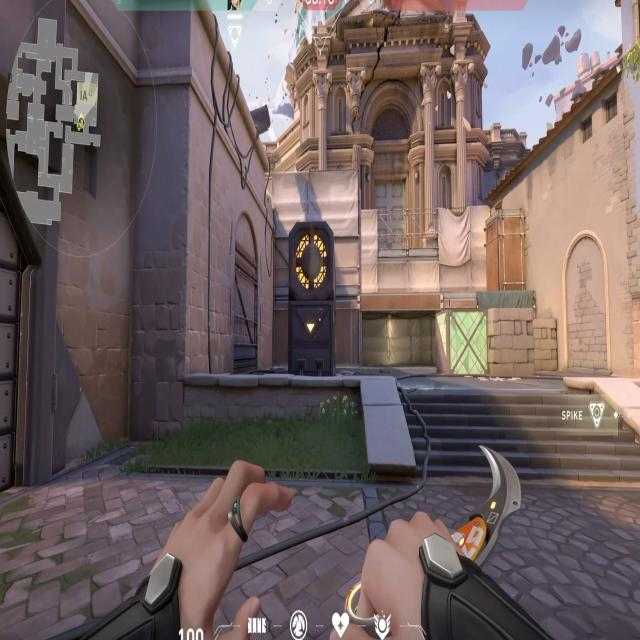A_Heaven_Box: (486, 208, 526, 295)
A_Heaven_Wall: (271, 170, 363, 298)
A_Hell: (348, 293, 453, 372)
A_Site_Box: (434, 312, 533, 376)
